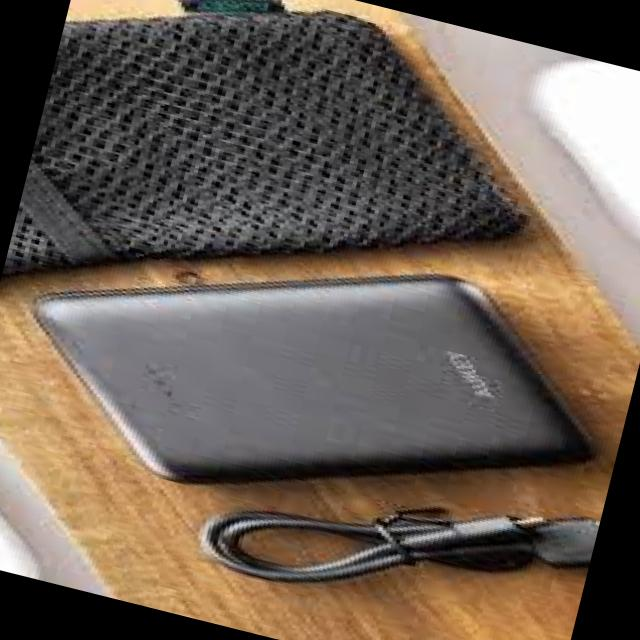portable-charger: (0, 177, 637, 586)
